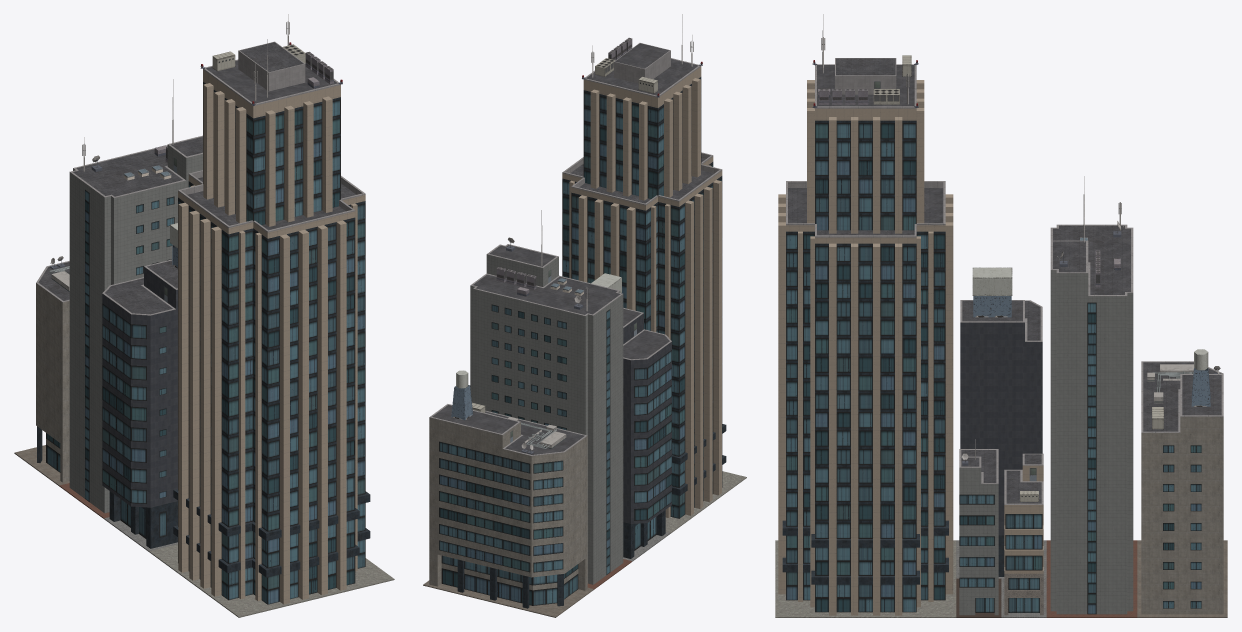
File: jctlowBldSetB.fbx
3 renders of one model, left to right at view 1: azimuth 30°, elevation 25°; view 2: azimuth 150°, elevation 25°; view 3: azimuth 270°, elevation 25°, orthographic. The views are drawn at different scales.
Visible parts, largest first — view 1: jctlowBldSetB; view 2: jctlowBldSetB; view 3: jctlowBldSetB.
Boxes of the visible parts, x1,y1,x2,y2 form: jctlowBldSetB: [14, 14, 394, 617]; jctlowBldSetB: [423, 14, 746, 617]; jctlowBldSetB: [775, 14, 1227, 617].
Size of the model in its own units: 2555 by 8094 by 6000.
17 materials, 17 textured.
